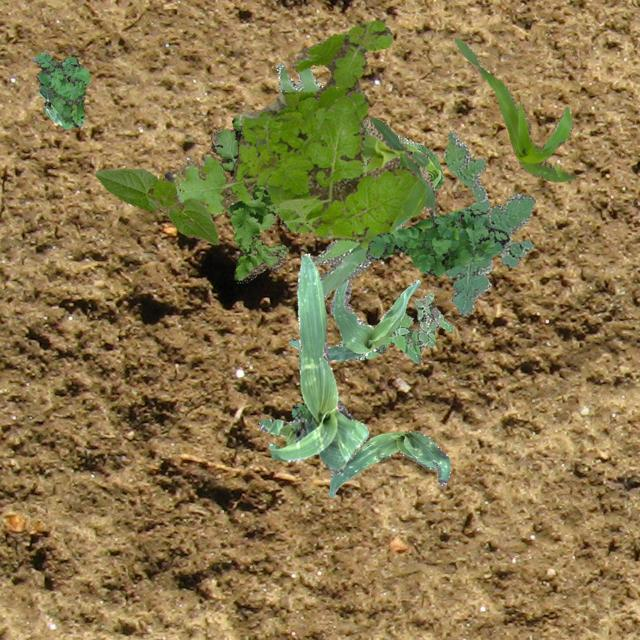crop: (258, 252, 368, 472), (452, 38, 576, 180), (287, 279, 419, 359), (93, 168, 217, 244), (328, 431, 450, 496), (360, 116, 438, 217), (38, 82, 62, 126)
weed: (164, 18, 426, 248), (276, 63, 442, 300), (442, 130, 534, 314), (210, 114, 292, 280), (364, 208, 508, 276), (337, 292, 452, 362), (31, 52, 88, 128), (290, 402, 306, 419)
